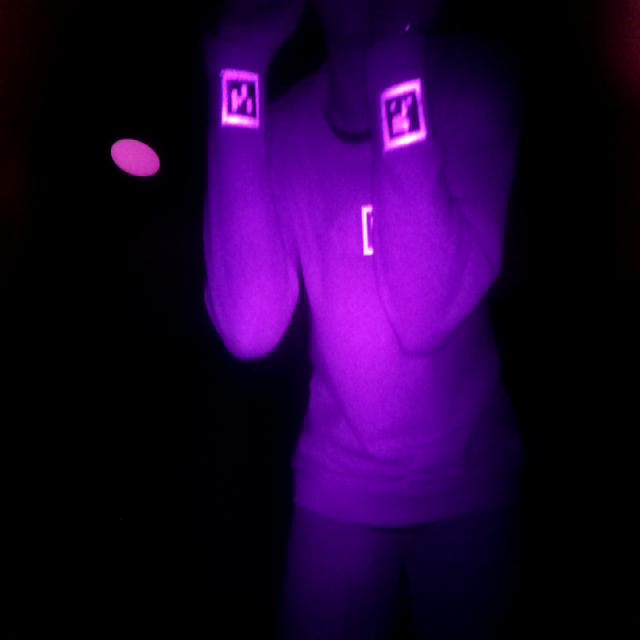Apriltags: (379, 78, 430, 154), (220, 70, 262, 126)
